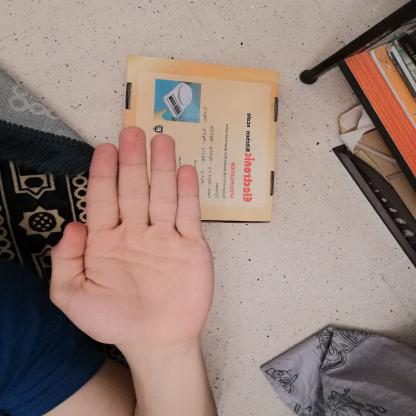SEEN: (33, 118, 223, 354)
